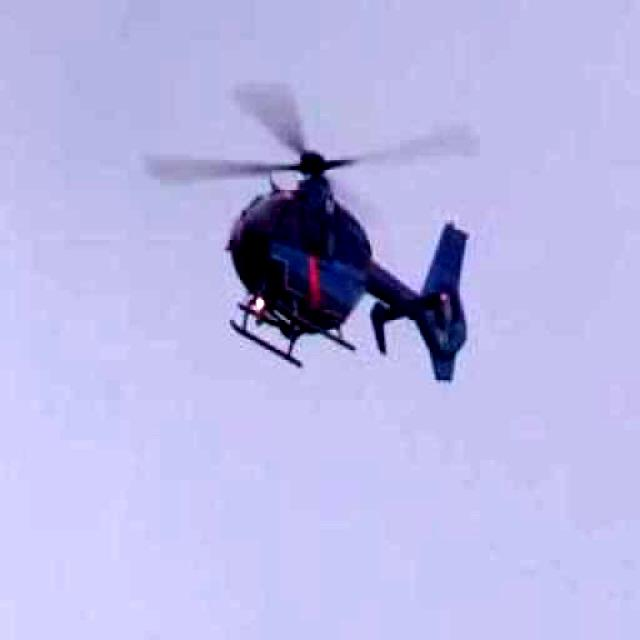drone: (132, 29, 529, 411)
